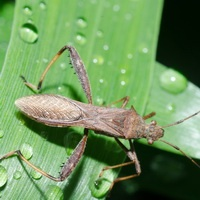insect: (0, 45, 199, 190)
